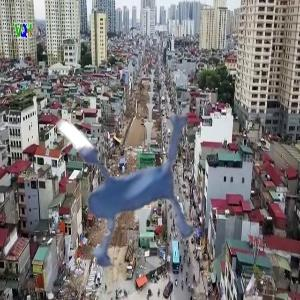drone: (3, 51, 245, 293)
